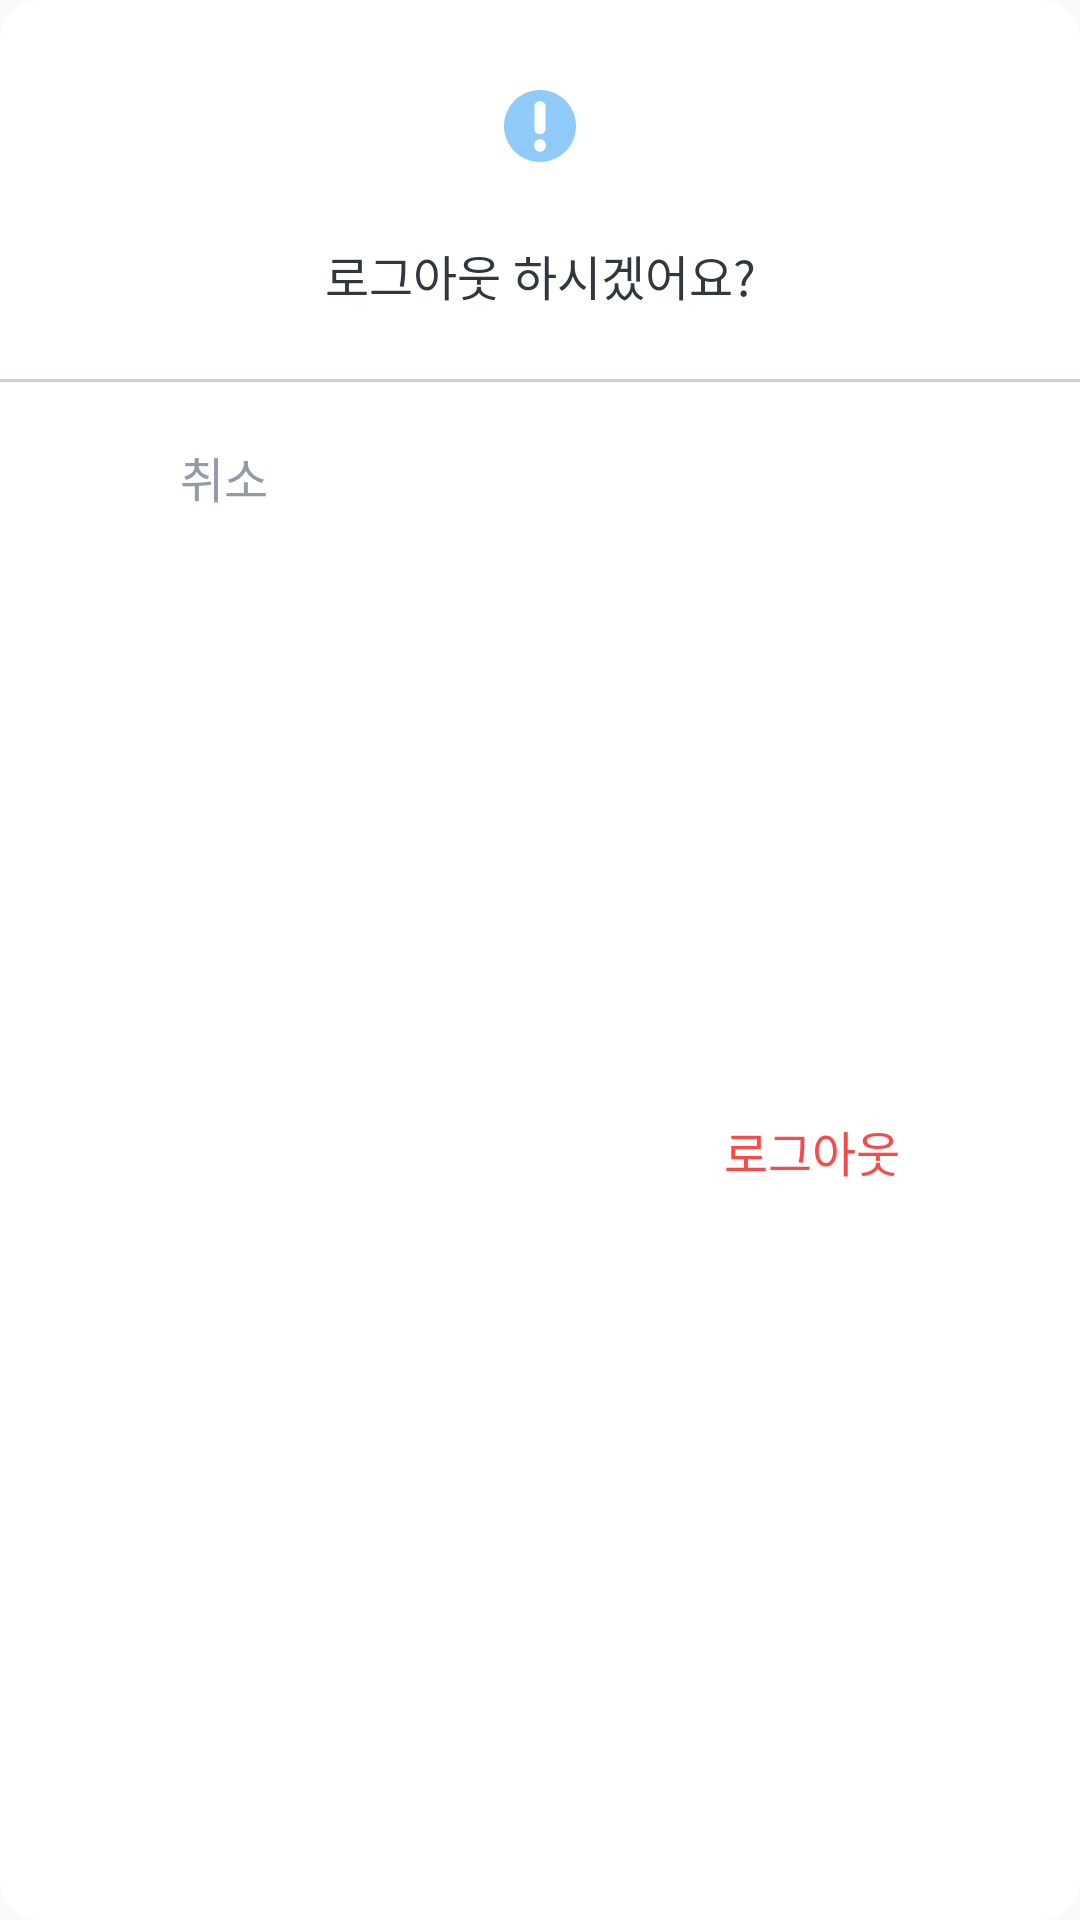

Screen size 1080px x 1920px. Icon name, then its box in pixels as (x1, y1, x2, y2):
alert: (504, 90, 576, 162)
